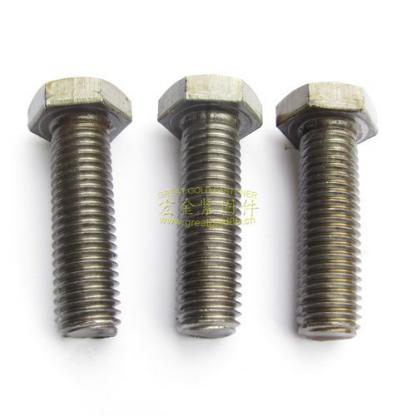FOD: (22, 73, 134, 341), (155, 67, 263, 344), (275, 78, 383, 346)
